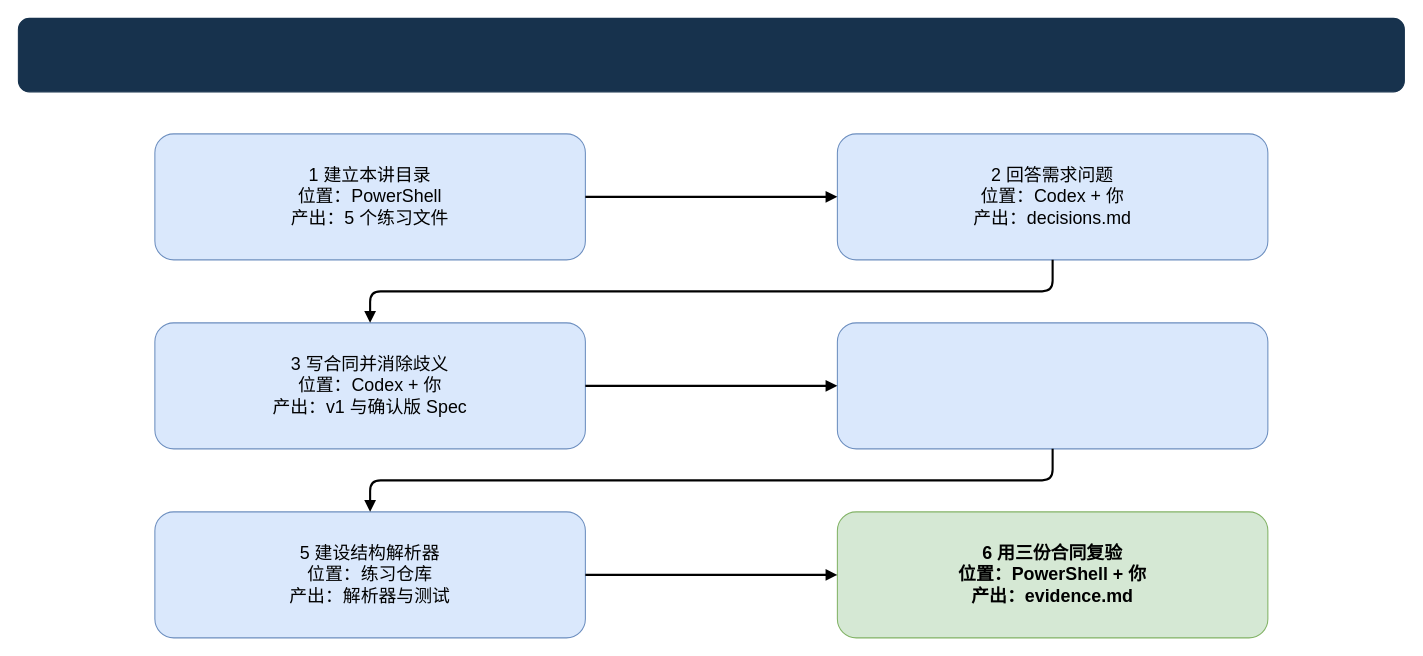
This 1423x656 diagram has some shape labels left out. Each missing label, with the centre of its shape:
4 抽取通用模板 位置：练习仓库 产出：模板与采购迁移稿: (1052,385)
L03 实践路线：按顺序操作，每一步都留下实际结果: (710,54)
